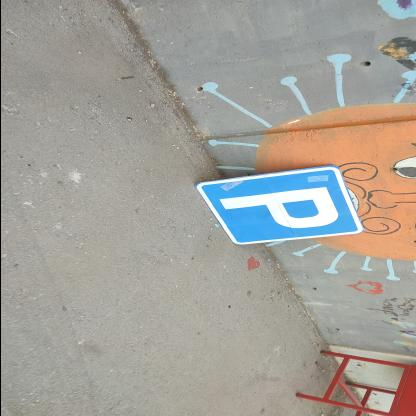Parking-Sign: (191, 164, 371, 247)
